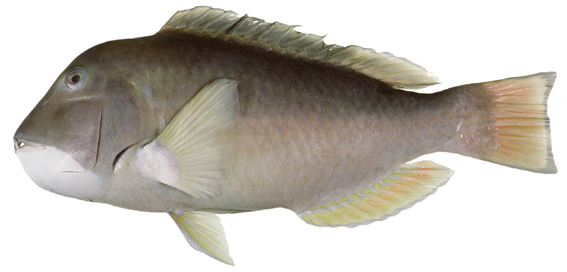fish: (16, 6, 560, 266)
